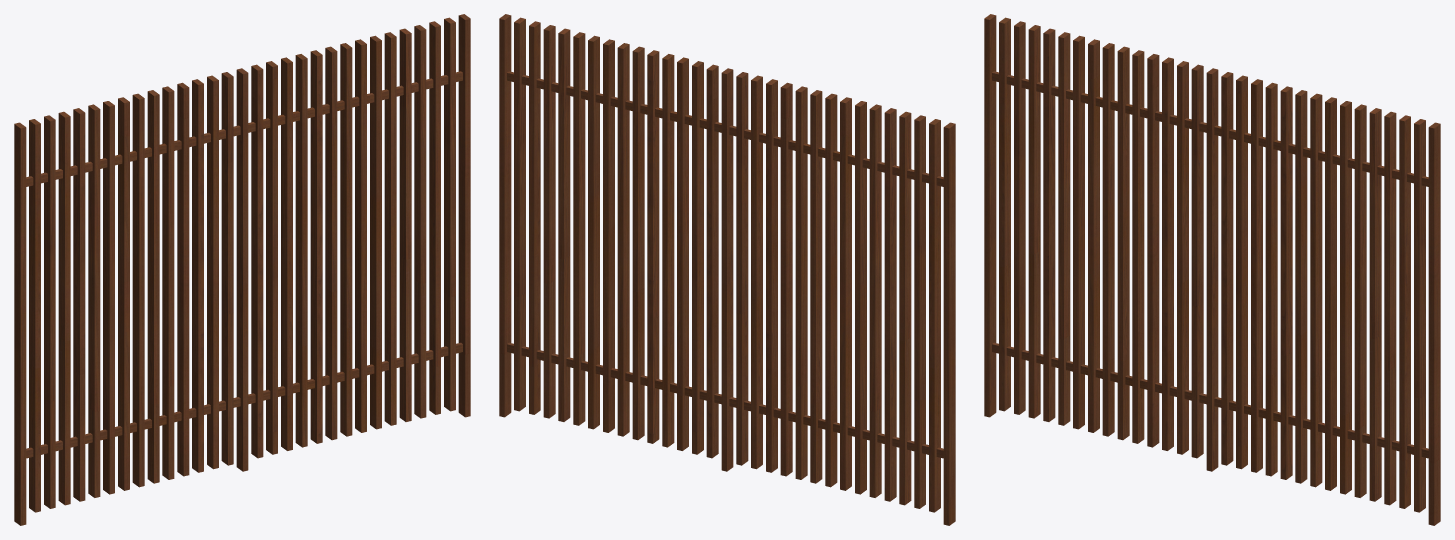
The model's file is sg-reversible-s50_h2000_walnat.fbx.
3 renders of one model, left to right at view 1: azimuth 30°, elevation 25°; view 2: azimuth 150°, elevation 25°; view 3: azimuth 330°, elevation 25°, orthographic.
Visible parts, largest first — view 1: sg-reversible-s50_h2000_walnat_2span; view 2: sg-reversible-s50_h2000_walnat_2span; view 3: sg-reversible-s50_h2000_walnat_2span.
Boxes of the visible parts, x1,y1,x2,y2 form: sg-reversible-s50_h2000_walnat_2span: (14, 14, 470, 525); sg-reversible-s50_h2000_walnat_2span: (499, 14, 955, 525); sg-reversible-s50_h2000_walnat_2span: (984, 14, 1440, 525).
Size of the model in its own units: 243 by 205 by 6.
1 material, 1 textured.
